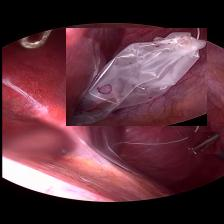Grasper: (13, 29, 51, 50), (186, 132, 218, 154)
Specimen Bag: (65, 28, 206, 126)
